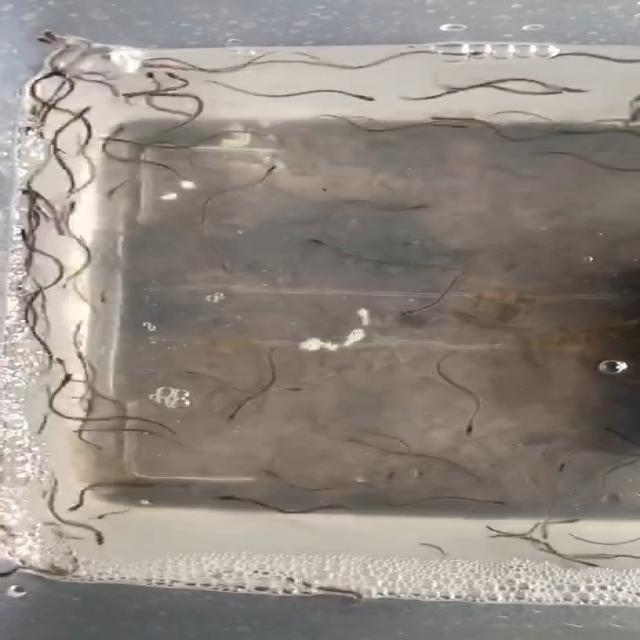inactive_glass_eel: (85, 278, 166, 324), (17, 336, 86, 372), (72, 527, 136, 562), (20, 27, 84, 57), (546, 446, 596, 481), (378, 296, 433, 324), (102, 175, 146, 210), (190, 485, 247, 511), (432, 116, 486, 143), (439, 415, 489, 443), (48, 490, 103, 515), (41, 370, 95, 395), (380, 195, 439, 217), (568, 559, 622, 583), (348, 86, 396, 112), (246, 456, 287, 484), (210, 403, 262, 425), (0, 221, 38, 251), (449, 45, 494, 69), (62, 99, 98, 125), (536, 81, 586, 99), (98, 118, 134, 140), (472, 491, 503, 514), (545, 514, 580, 533), (249, 160, 286, 177), (155, 70, 191, 87), (527, 89, 568, 103), (45, 200, 86, 214), (296, 234, 324, 253), (131, 70, 165, 82)
